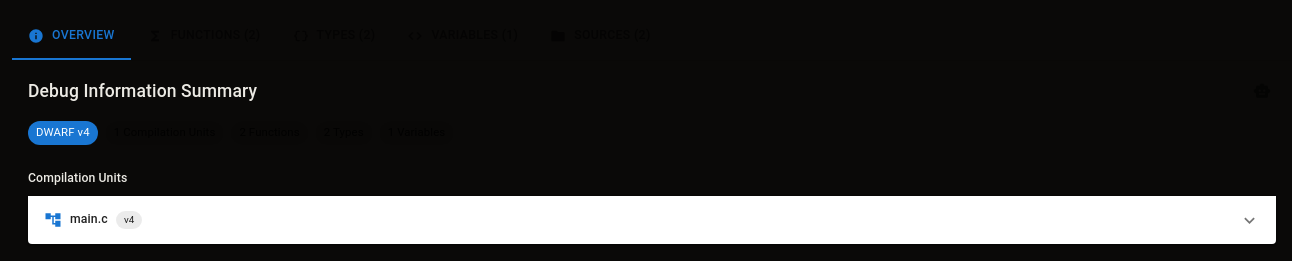
Test: DWARFPanel › switches to functions tab
Click the tab "Functions (2)" at {"x": 204, "y": 36}, box left=131, top=12, right=276, bottom=60
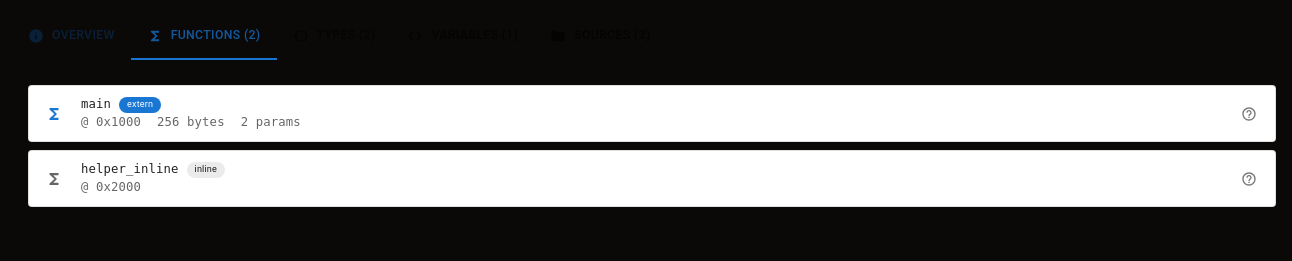
Expected: the text "main" is shown, left=81, top=96, right=111, bottom=114
Expected: the text "helper_inline" is shown, left=81, top=161, right=179, bottom=178
Expected: the text "inline" is shown, left=195, top=164, right=217, bottom=174
